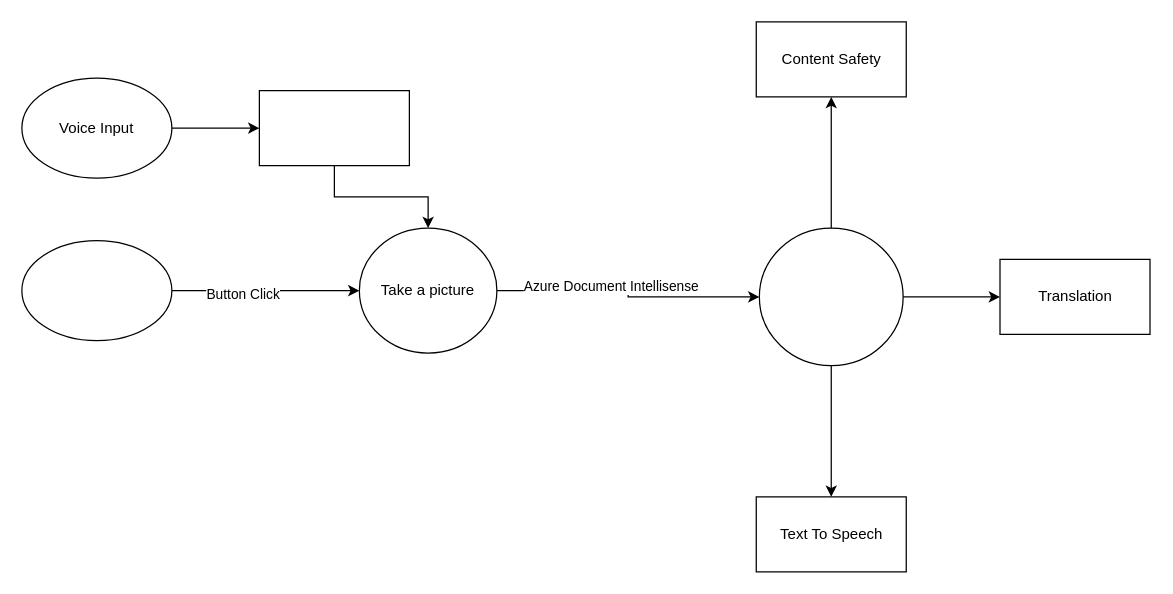
This 1173x594 diagram has some shape labels left out. Each missing label, with the box of its shape:
Azure Speech-to-Text Service: (258, 89, 409, 166)
Text: (758, 227, 903, 366)
UI Input: (21, 239, 172, 341)
